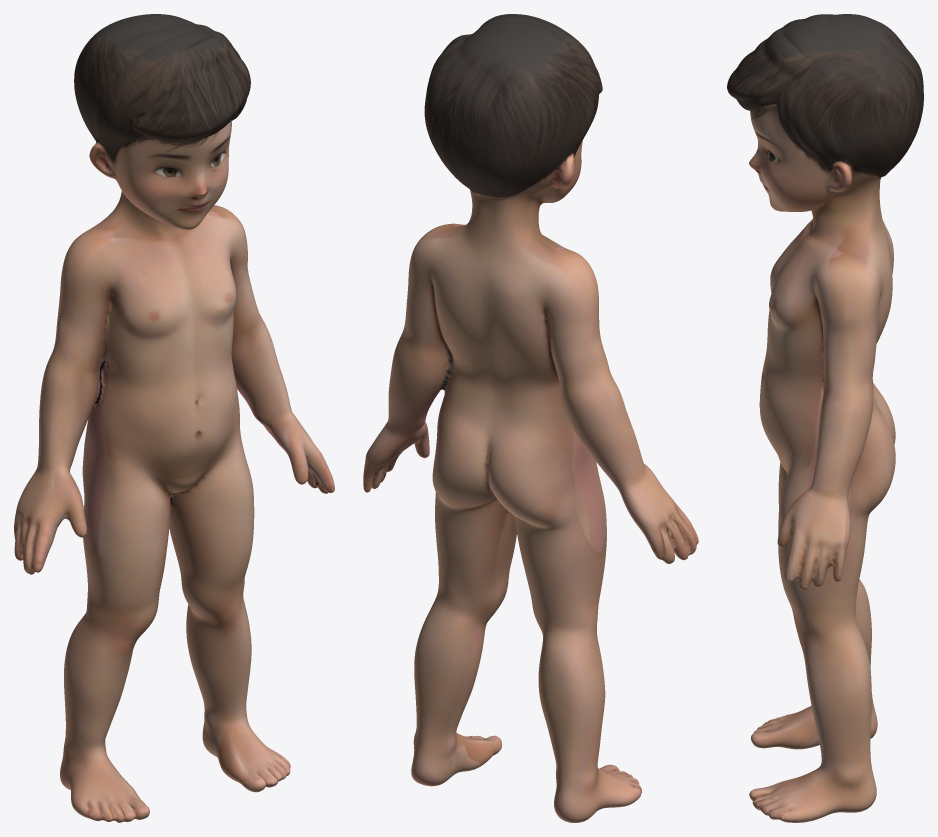
File: simpleboy.glb
The picture shows the model from 3 angles, left to right: view 1: azimuth 30°, elevation 25°; view 2: azimuth 150°, elevation 25°; view 3: azimuth 270°, elevation 25°; orthographic projection.
Size of the model in its own units: 0.8645 by 2 by 0.4769.
Materials: 1 (1 with a texture image).
